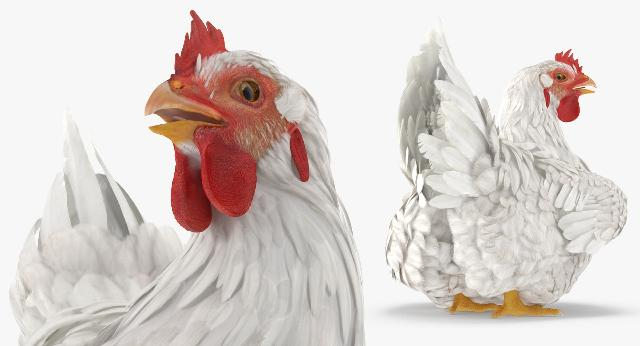Chicken: (9, 8, 367, 346), (383, 13, 629, 319)
